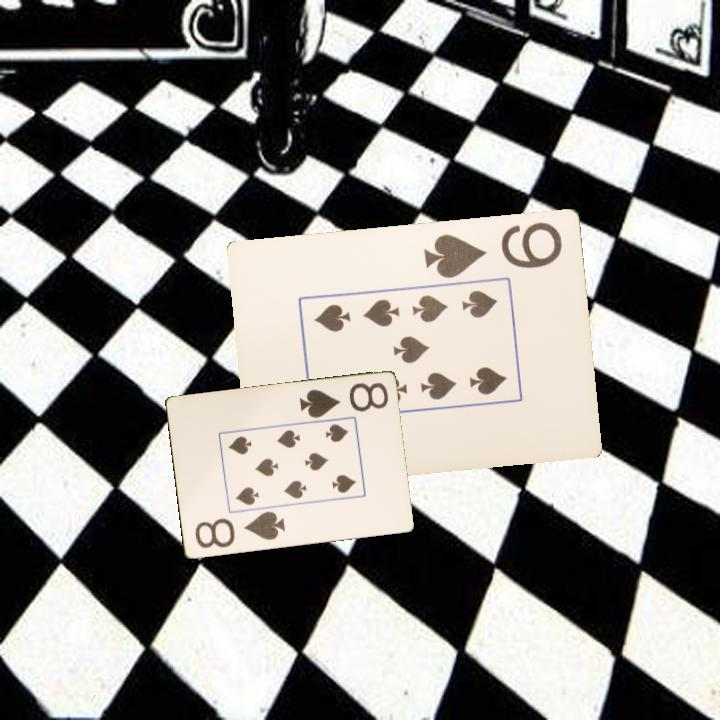8s: (191, 508, 288, 552), (295, 379, 391, 421)
9s: (420, 218, 566, 281)
